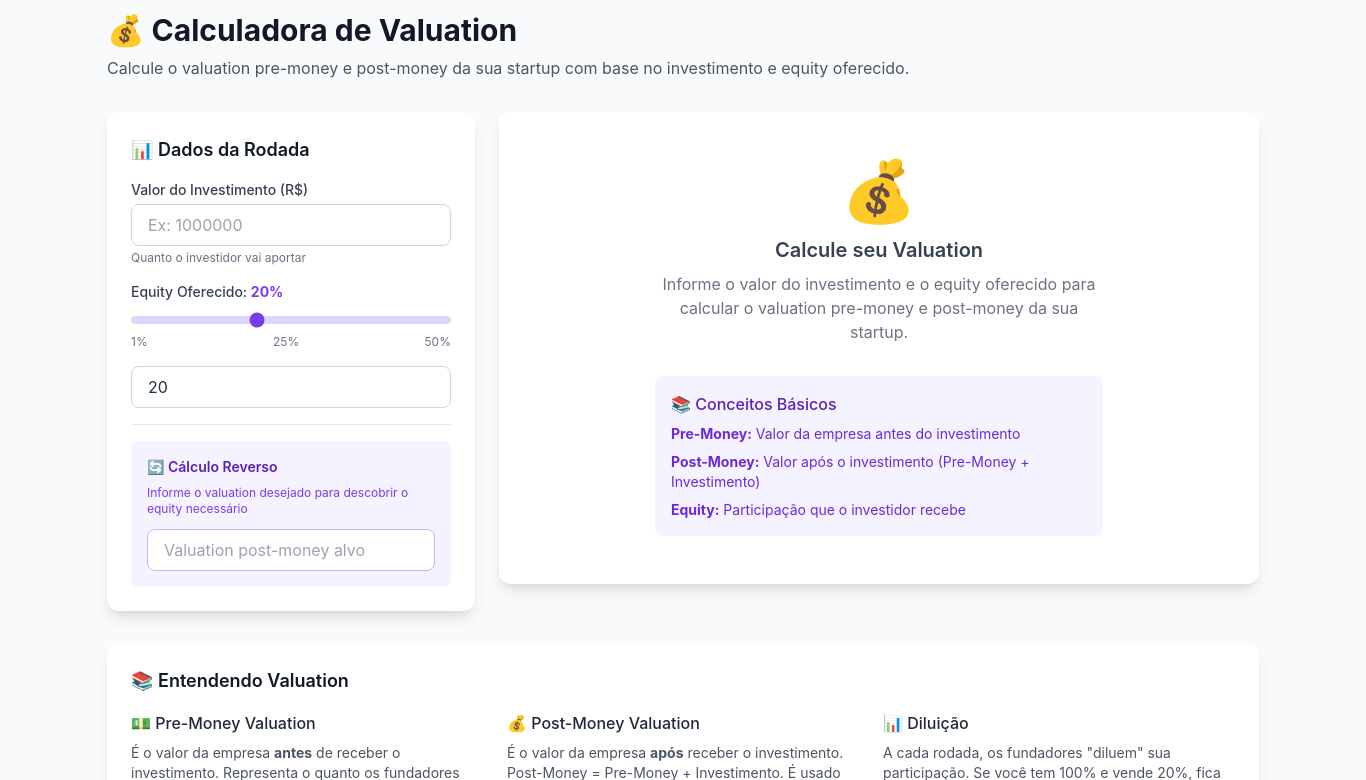
CalculadoraValuation - Calculadora de Valuation › Interações do Formulário › deve permitir digitar equity diretamente
# O usuário digita equity diretamente
Replace the text in the number field showing "20" with "25". click: (291, 387)
box: x1=131 y1=366 x2=451 y2=408
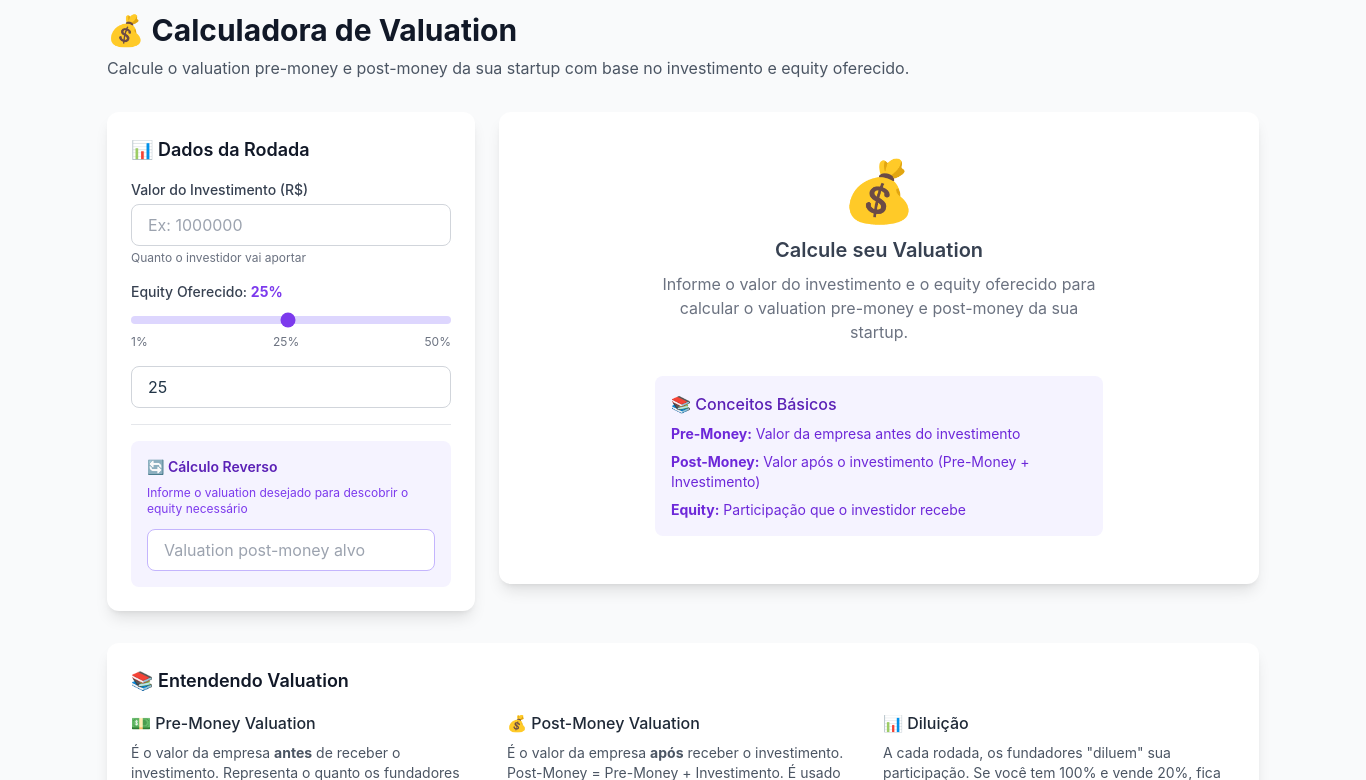
Expected: the slider holds "25", x1=131 y1=316 x2=451 y2=324
